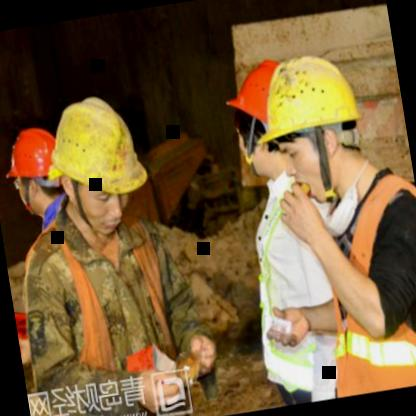helmet: (252, 47, 371, 196), (41, 90, 156, 241), (216, 53, 299, 186), (0, 118, 75, 225)
